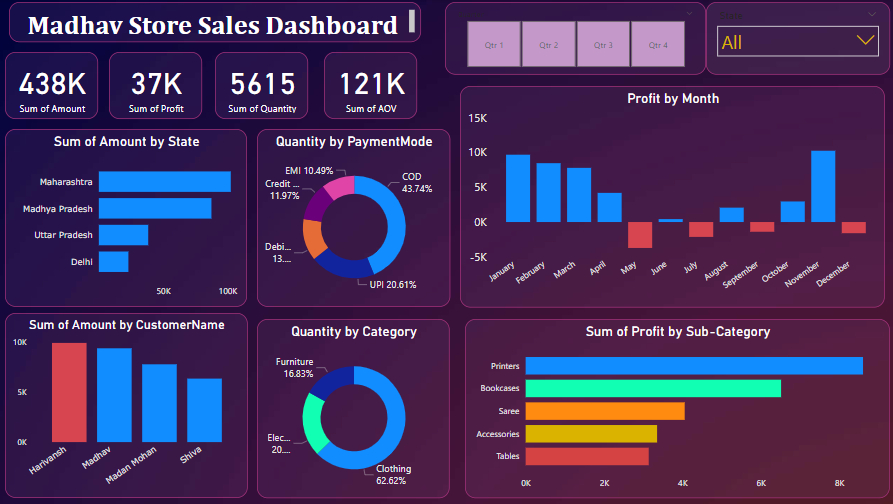

Layout of this report page (visuals, bound fields, positions):
{"tool":"powerbi","page":{"name":"Page 1","canvas":[1280,720],"ordinal":0},"visuals":[{"type":"textbox","box":[15.6,4.3,583.9,56.7],"z":0},{"type":"columnChart","title":"Profit by Month","fields":{"Category":["Orders.Order Date.Variation.Date Hierarchy.Month"],"Y":["Details.Profit"]},"box":[654.7,122.8,602.4,314.3],"z":1000},{"type":"barChart","fields":{"Category":["Details.Sub-Category"],"Y":["Details.Profit"]},"box":[661.3,453.4,602.4,253.7],"z":2000},{"type":"donutChart","title":"Quantity by Category","fields":{"Category":["Details.Category"],"Y":["Details.Quantity"]},"box":[366.6,453.4,273.4,253.7],"z":3000},{"type":"donutChart","title":"Quantity by PaymentMode","fields":{"Y":["Details.Quantity"],"Category":["Details.PaymentMode"]},"box":[367.1,184.3,273.5,252.3],"z":4000},{"type":"card","fields":{"Values":["Details.Amount"]},"box":[9.9,75.1,131.8,95],"z":5000},{"type":"card","fields":{"Values":["Details.Profit"]},"box":[157.3,75.1,131.8,95],"z":6000},{"type":"card","fields":{"Values":["Details.Quantity"]},"box":[307.6,75.1,131.8,95],"z":7000},{"type":"card","fields":{"Values":["Details.AOV"]},"box":[462,75.1,131.8,95],"z":8000},{"type":"barChart","fields":{"Category":["Orders.State"],"Y":["Details.Amount"]},"box":[9.9,184.3,343,252.3],"z":9000},{"type":"columnChart","fields":{"Category":["Orders.CustomerName"],"Y":["Details.Amount"]},"box":[9.8,445.2,343.7,261.9],"z":10000},{"type":"slicer","fields":{"Values":["Orders.Order Date.Variation.Date Hierarchy.Quarter"]},"box":[633.5,4.3,369.9,103.5],"z":11000},{"type":"slicer","fields":{"Values":["Orders.State"]},"box":[1003.5,4.3,260.8,103.5],"z":12000}]}

Visuals, with their boxes in screenshot pixels (x1, y1, x2, y2), scaled from the page's 1280x720 canvas onto the 893x504 screenshot:
textbox: locate(11, 3, 418, 43)
"Profit by Month" columnChart: locate(457, 86, 877, 306)
barChart - Details.Sub-Category x Details.Profit: locate(461, 317, 882, 495)
"Quantity by Category" donutChart: locate(256, 317, 446, 495)
"Quantity by PaymentMode" donutChart: locate(256, 129, 447, 306)
card - Details.Amount: locate(7, 53, 99, 119)
card - Details.Profit: locate(110, 53, 202, 119)
card - Details.Quantity: locate(215, 53, 307, 119)
card - Details.AOV: locate(322, 53, 414, 119)
barChart - Orders.State x Details.Amount: locate(7, 129, 246, 306)
columnChart - Orders.CustomerName x Details.Amount: locate(7, 312, 247, 495)
slicer - Orders.Order Date.Variation.Date Hierarchy.Quarter: locate(442, 3, 700, 75)
slicer - Orders.State: locate(700, 3, 882, 75)
